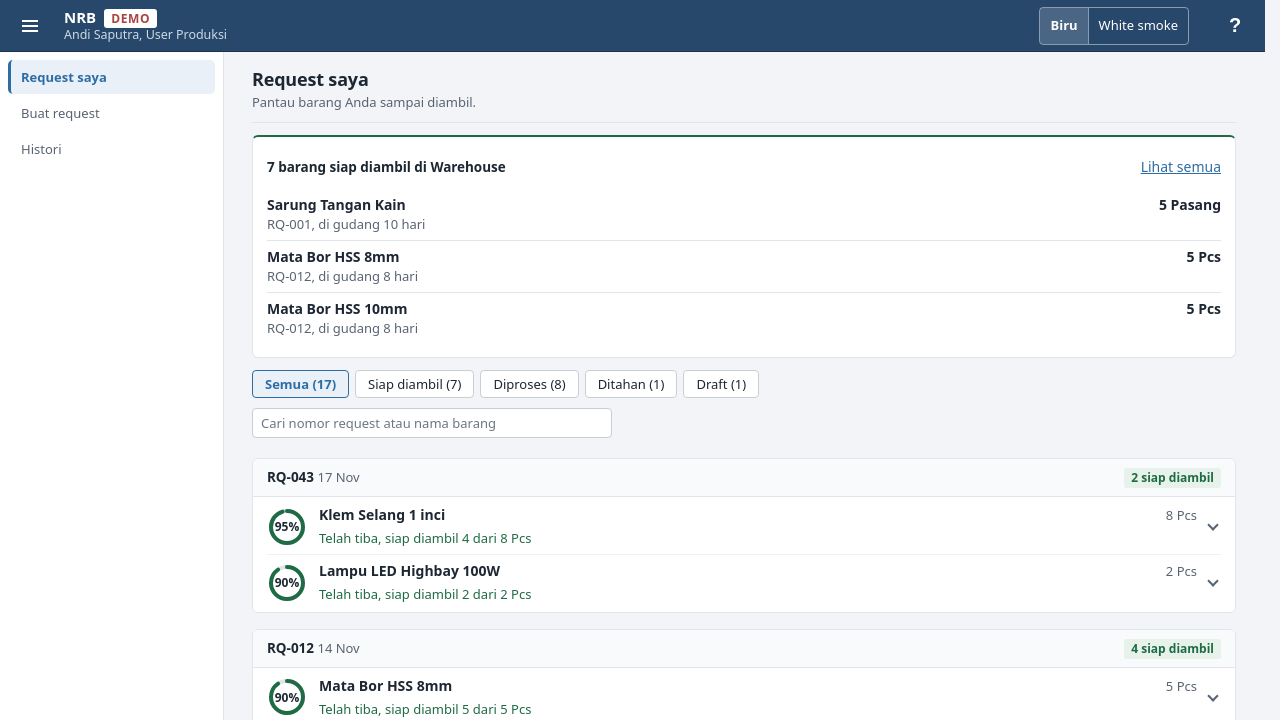
Test: Request saya vs Histori (data contoh) › Histori: pencarian dan filter status bekerja, ada tombol hapus filter
Expected: the button "Request saya" is shown, [8,60,215,94]
Click the button "Histori" at (112, 149), box [8,132,215,166]
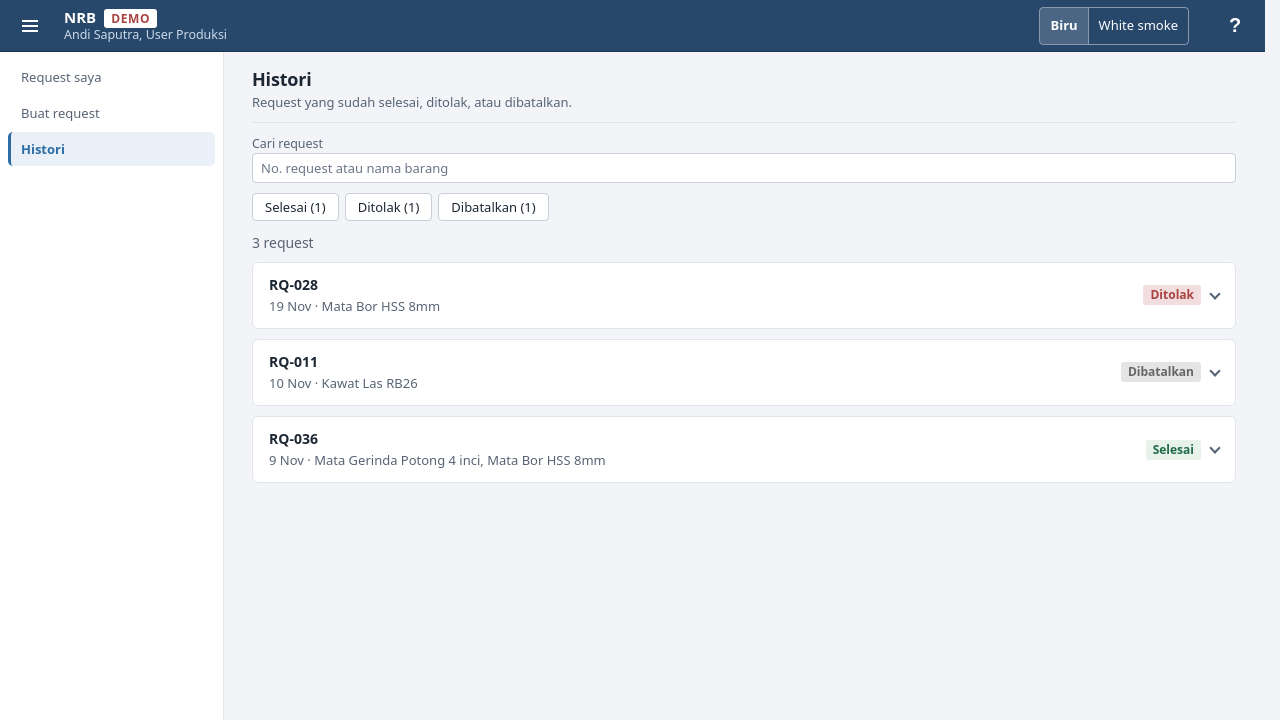
Type "RQ-011" into the search field labelled "Cari request" at (744, 168), box [252,153,1236,183]
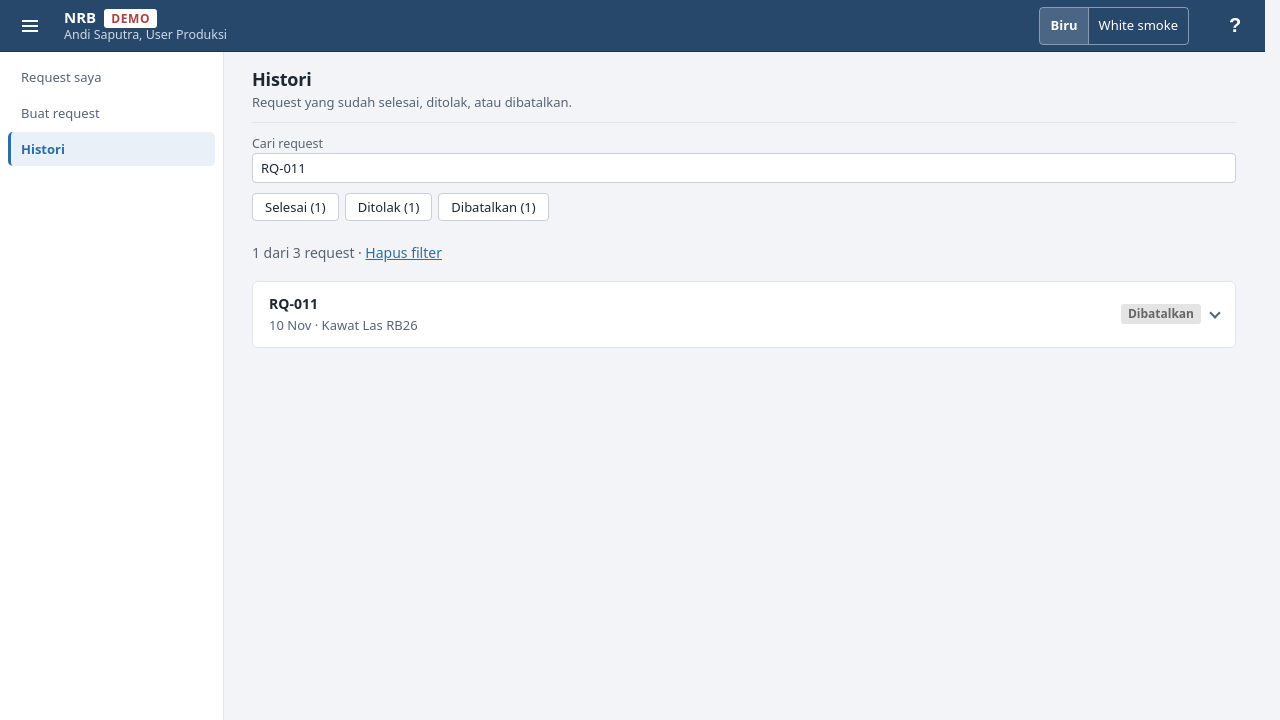
Result: the number of list items is 1 at [252,281,1236,348]
Replace the text in the search field labelled "Cari request" with "tidak-ada-yang-cocok" at (744, 168), box [252,153,1236,183]
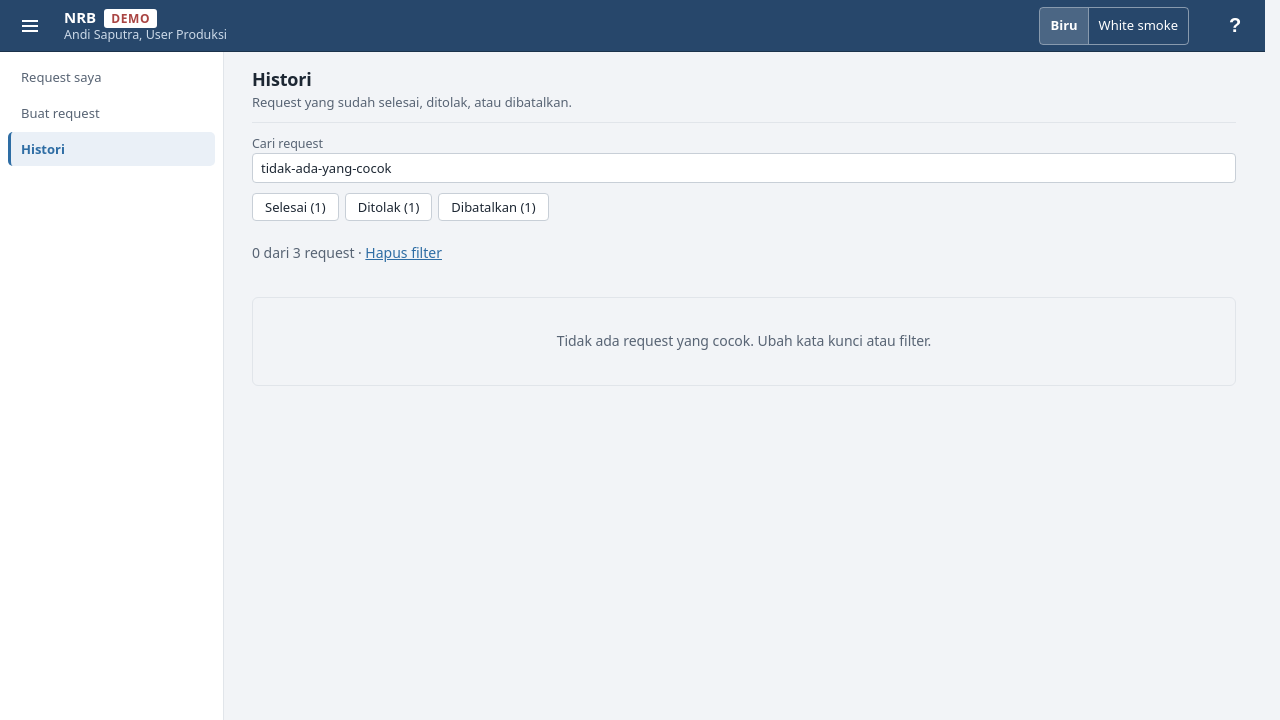
Result: the text "Tidak ada request yang cocok. Ubah kata kunci atau filter." is shown at [252,297,1236,386]
Click the button "Hapus filter" at (404, 253), box [365,233,442,273]
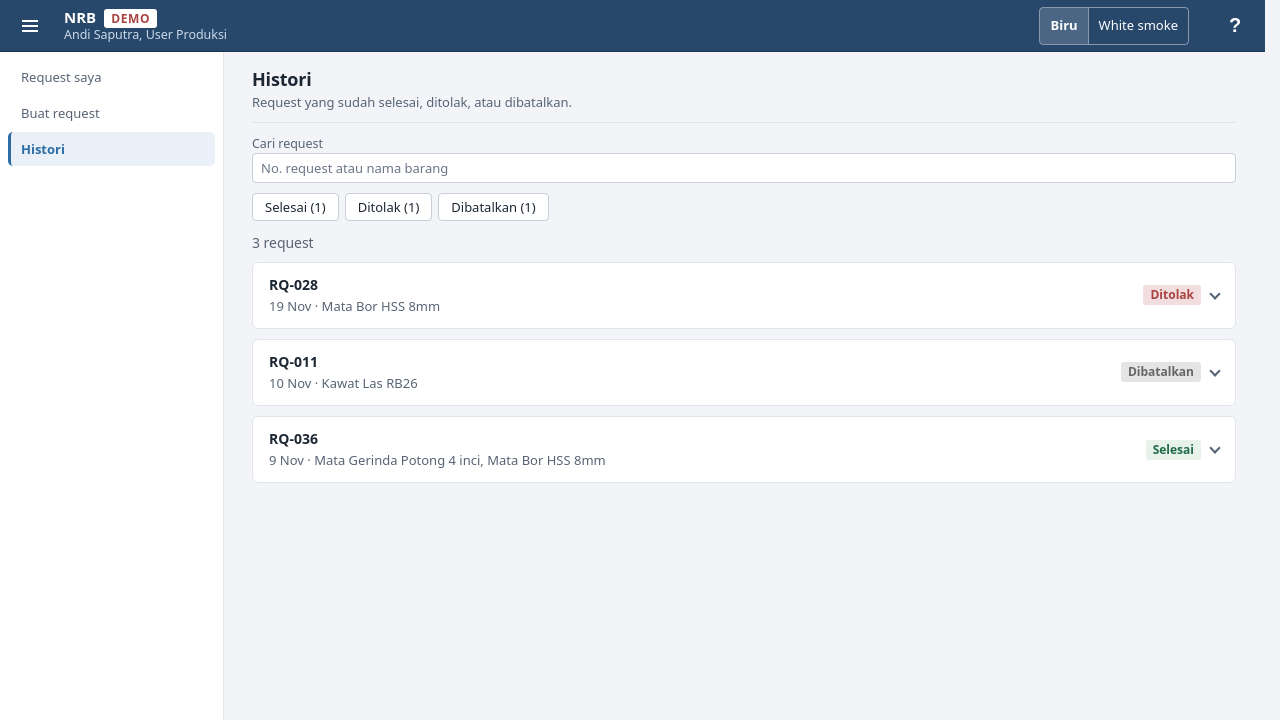
Result: the number of list items is 3 at [252,262,1236,329]; [252,339,1236,406]; [252,416,1236,483]
